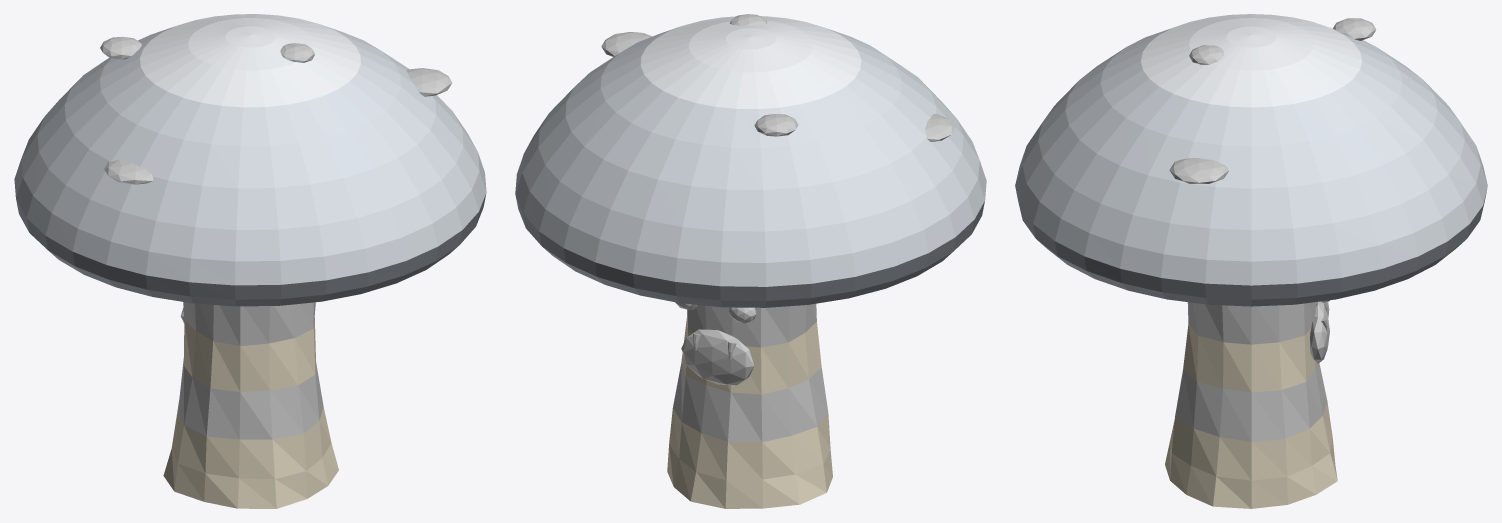
The model's file is CreatureShrieker.obj.
The picture shows the model from 3 angles, left to right: view 1: azimuth 30°, elevation 25°; view 2: azimuth 150°, elevation 25°; view 3: azimuth 270°, elevation 25°; orthographic projection.
Size of the model in its own units: 4.7 by 4.8 by 4.7.
